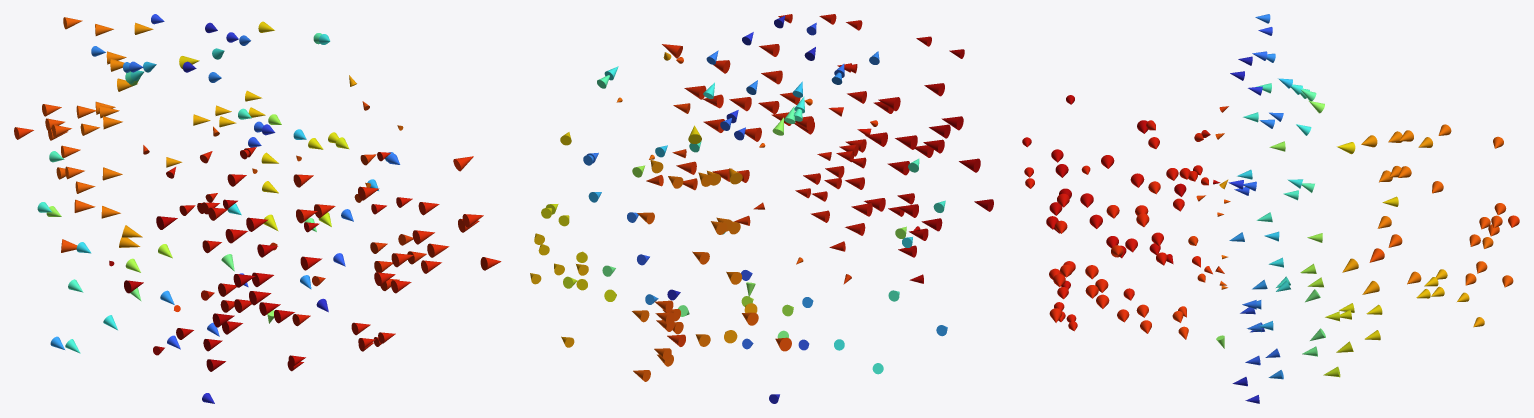
The model's file is LineasCorrienteH2-O2_mh2-5.58_V-0.7.glb.
3 renders of one model, left to right at view 1: azimuth 30°, elevation 25°; view 2: azimuth 150°, elevation 25°; view 3: azimuth 270°, elevation 25°, orthographic. The views are drawn at different scales.
Size of the model in its own units: 0.000927 by 0.000969 by 0.00123.
2 materials, 2 textured.
